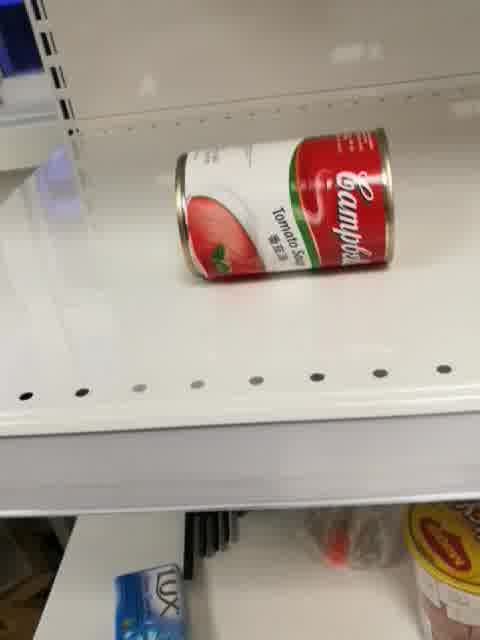tomatosoup: (171, 126, 396, 283)
